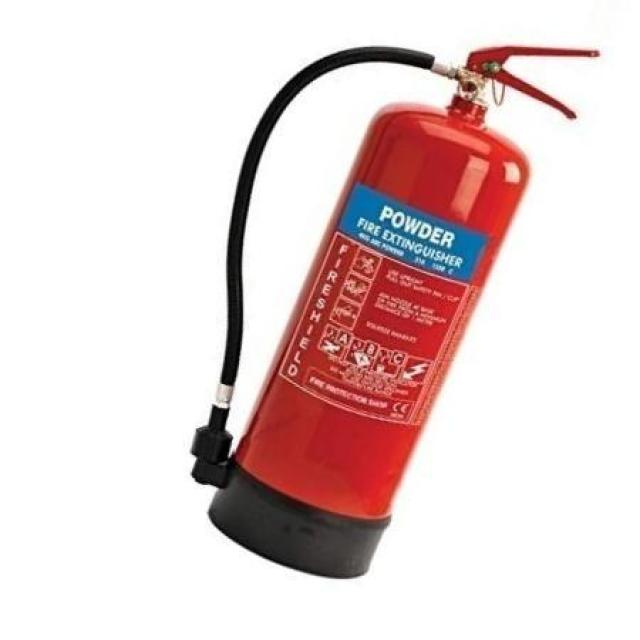fire_extinguisher: (179, 28, 602, 591)
